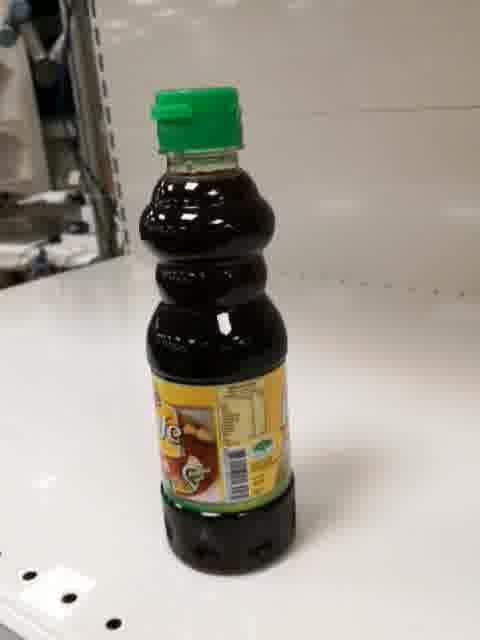cookingoil: (137, 86, 299, 580)
